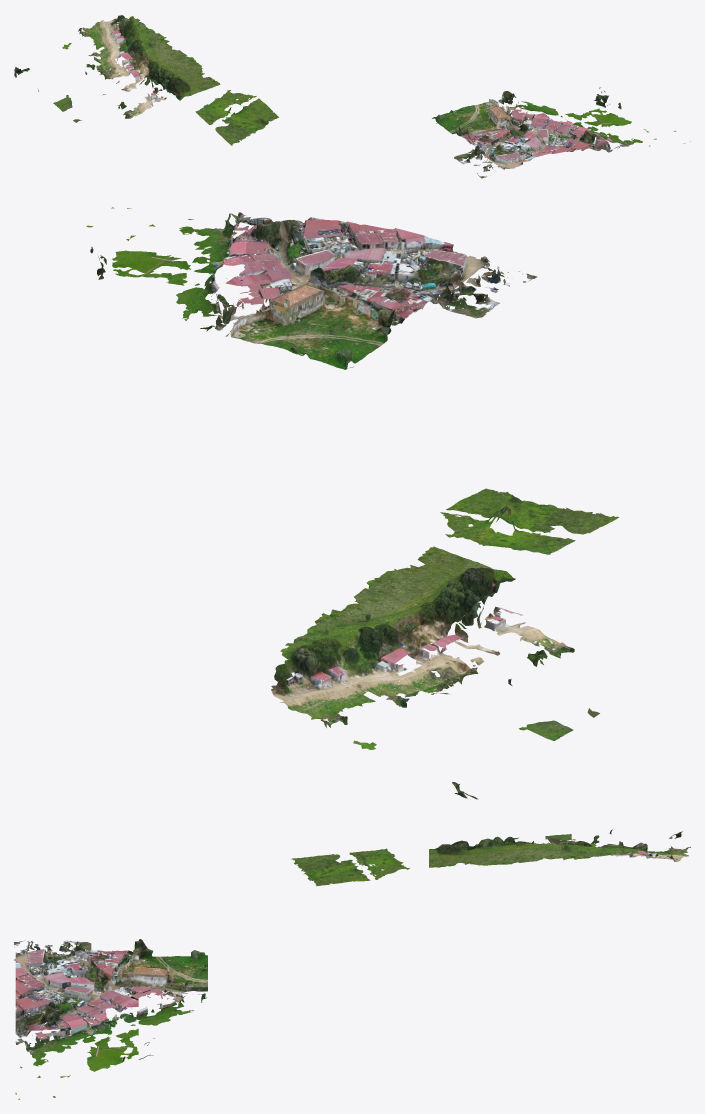
File: bairro_12.glb
3 renders of one model, top to bottom at view 1: azimuth 30°, elevation 25°; view 2: azimuth 150°, elevation 25°; view 3: azimuth 270°, elevation 25°, orthographic. The views are drawn at different scales.
Visible parts, largest first — view 1: bairro_12; view 2: bairro_12; view 3: bairro_12.
Boxes of the visible parts, x1,y1,x2,y2 form: bairro_12: [14, 15, 690, 178]; bairro_12: [86, 207, 618, 799]; bairro_12: [14, 829, 690, 1099].
Size of the model in its own units: 319 by 31.62 by 329.
Materials: 1 (1 with a texture image).
